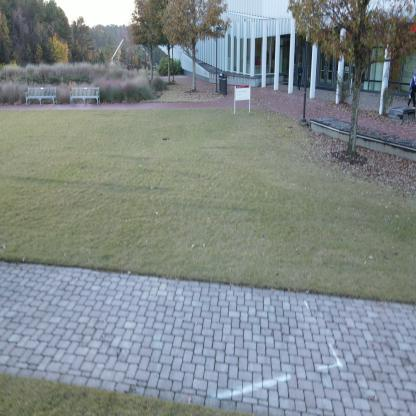Hunt Library: (167, 0, 415, 132)
